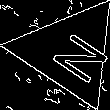N_NW: (34, 20, 104, 83)
